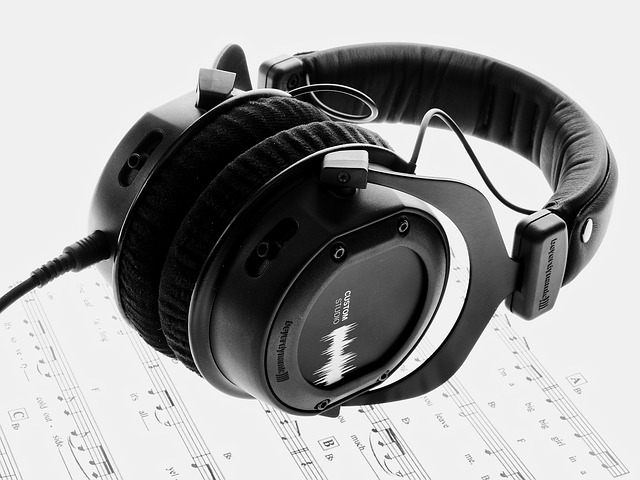headphones: (89, 44, 618, 418)
